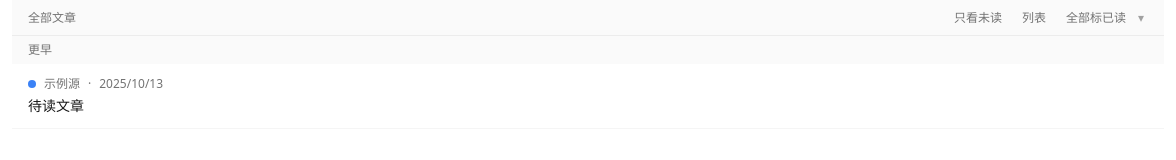
Scenario: ArticleList 顶部工具栏 › 点 [data-layout-toggle] 在列表/卡片间切换偏好,行与文案即时更新(无需重载)
This screenshot has width=1176, height=160.
Step 1. Click the button "列表" → (1034, 18), box [1014,6,1054,30]
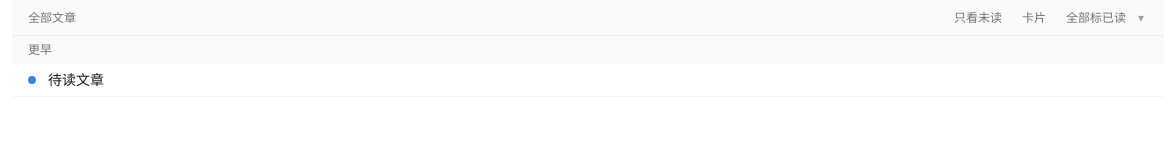
Expected: the button "卡片" is shown
Step 2. Click the button "卡片" → (1034, 18), box [1014,6,1054,30]
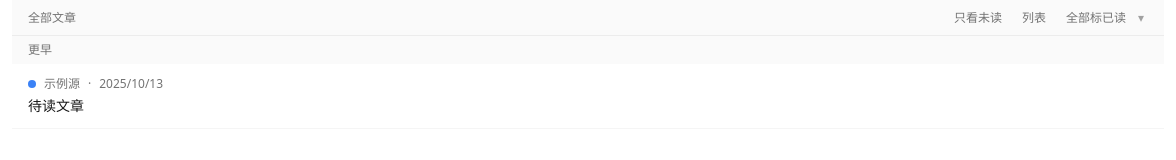
Expected: the button "列表" is shown, [1014,6,1054,30]
